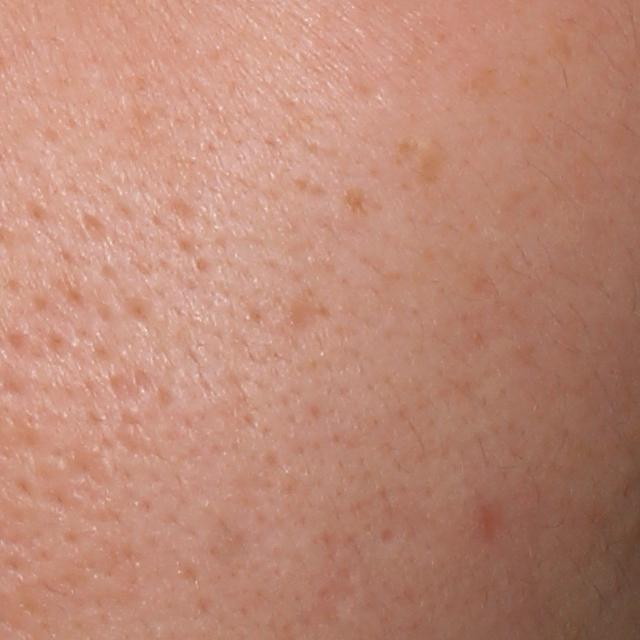atrophic_scar: (102, 365, 159, 453)
melasma: (386, 133, 451, 190), (447, 60, 510, 103)
